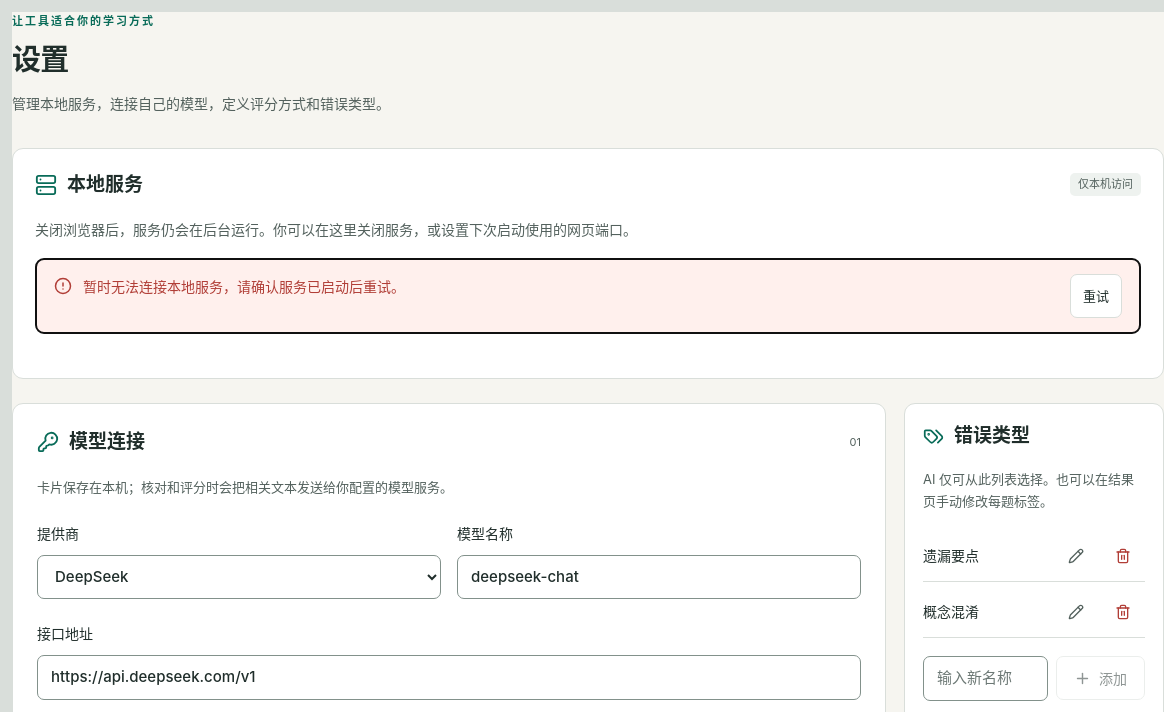
Test: 设置与卡片编辑 › 服务信息失败不阻断模型设置，重试后展示不支持网页关闭的原因
Expected: the message "暂时无法连接本地服务，请确认服务已启动后重试。 重试" is shown, [35,258,1141,334]
Click the button "重试" at point(1096, 296), box [1070,274,1122,318]
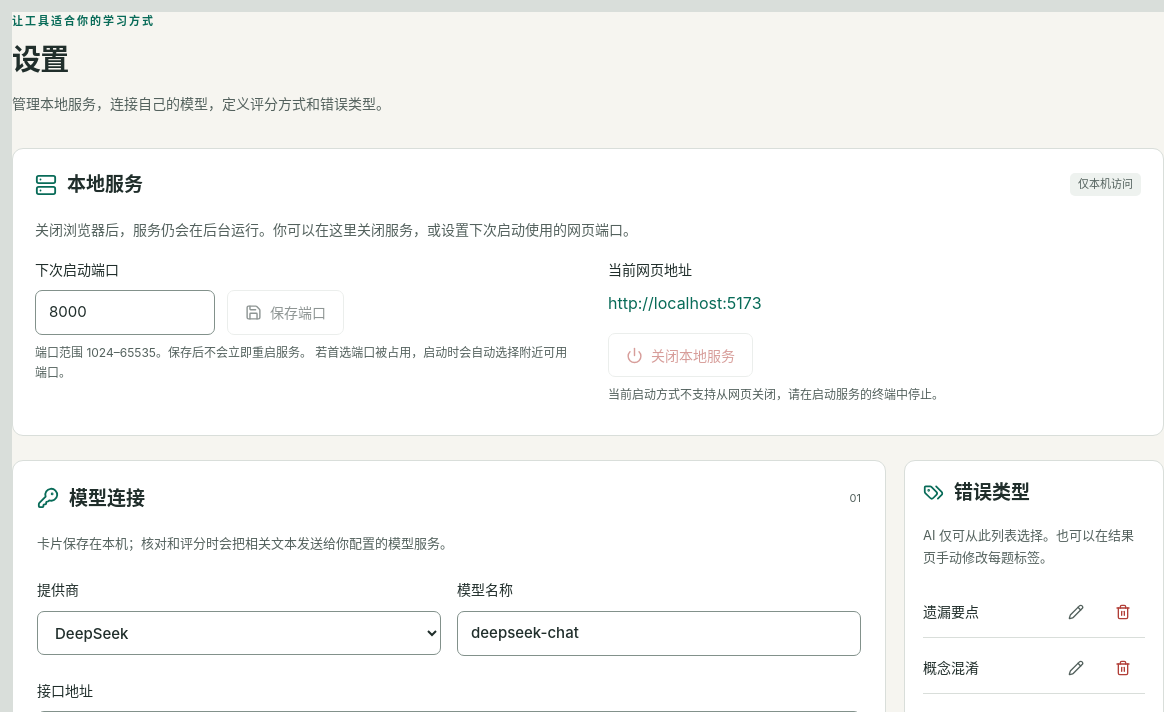
Expected: the button "关闭本地服务" is disabled, [608,333,753,377]
Expected: the text "当前启动方式不支持从网页关闭，请在启动服务的终端中停止。" is shown, [608,387,944,402]
